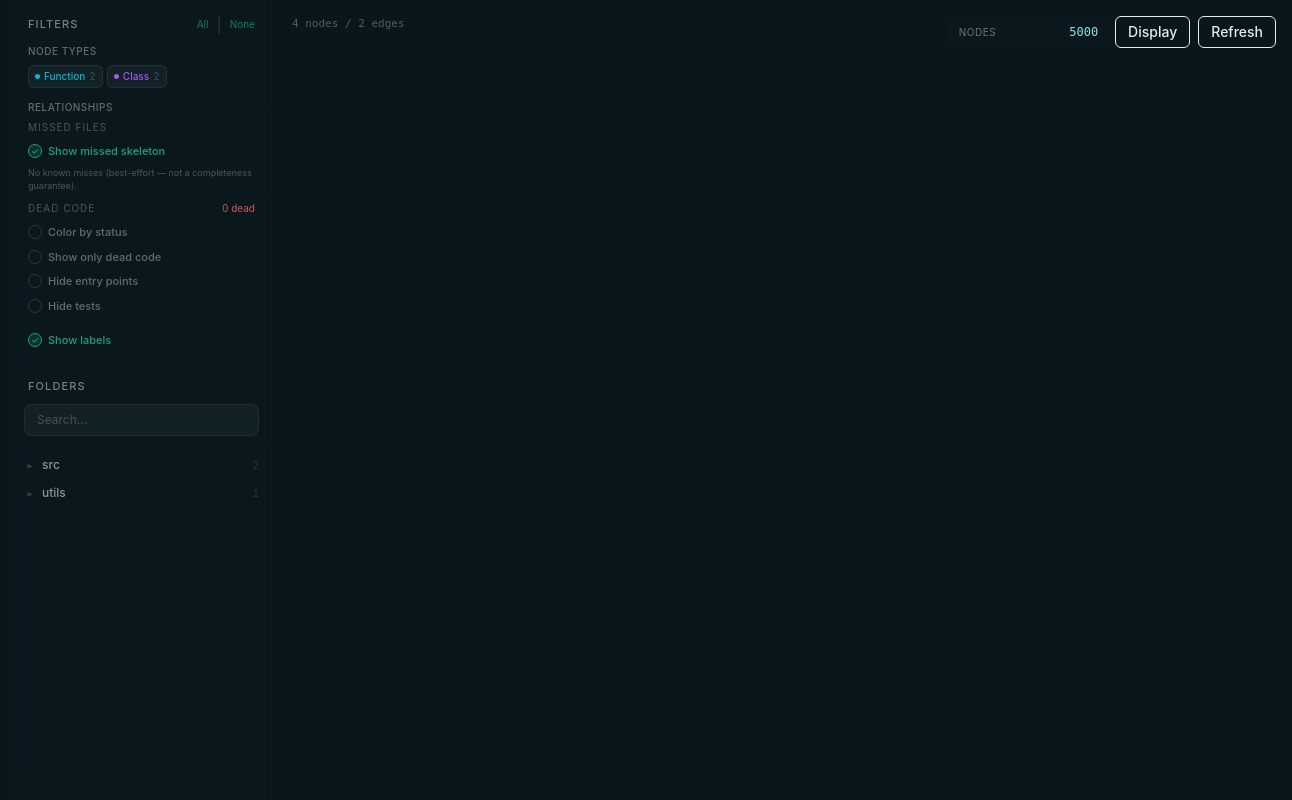
Test case: GraphTab selection › does NOT open the detail panel for a directory containing exactly one node
Check: the text "Filters" is shown, box [28, 16, 78, 32]
Click the button "▸ utils 1".
click(142, 493)  # box [12, 479, 271, 507]
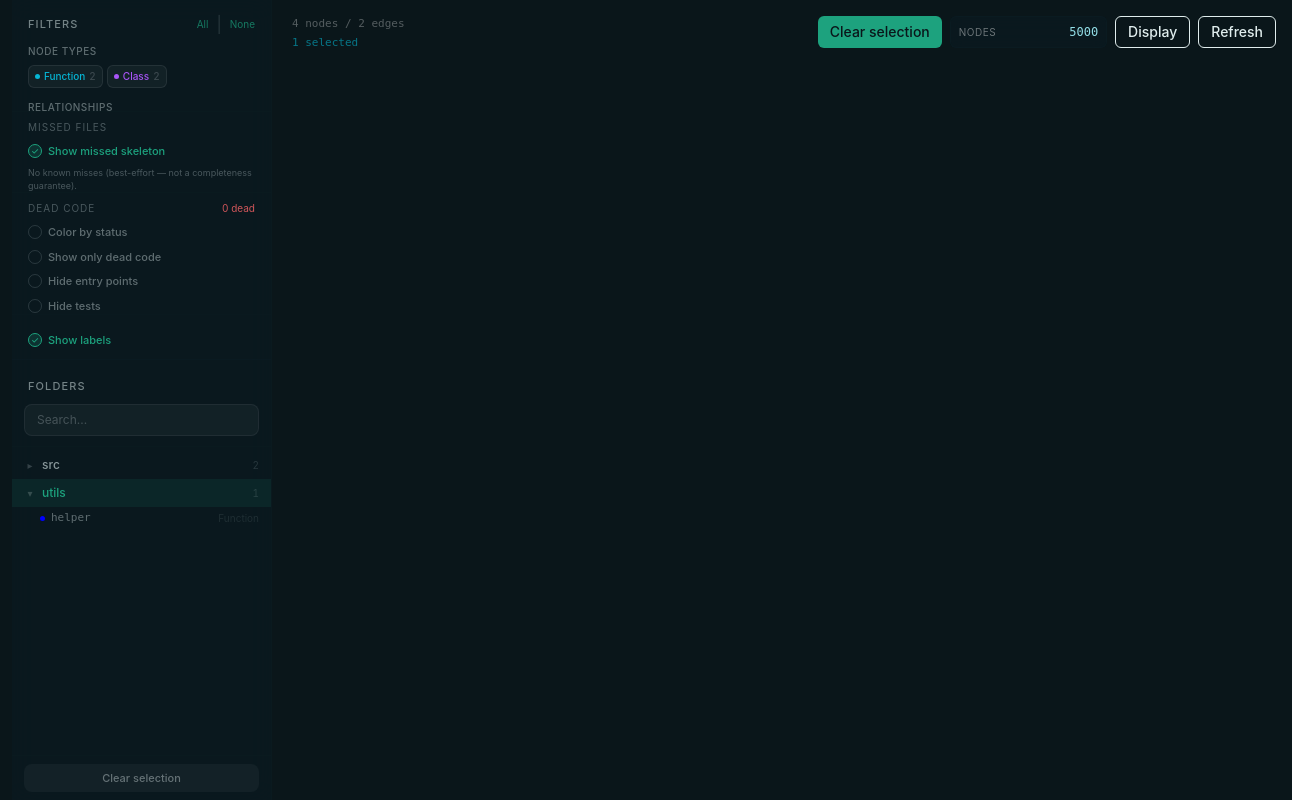
Check: the text "1 selected" is shown, box [292, 36, 358, 48]
